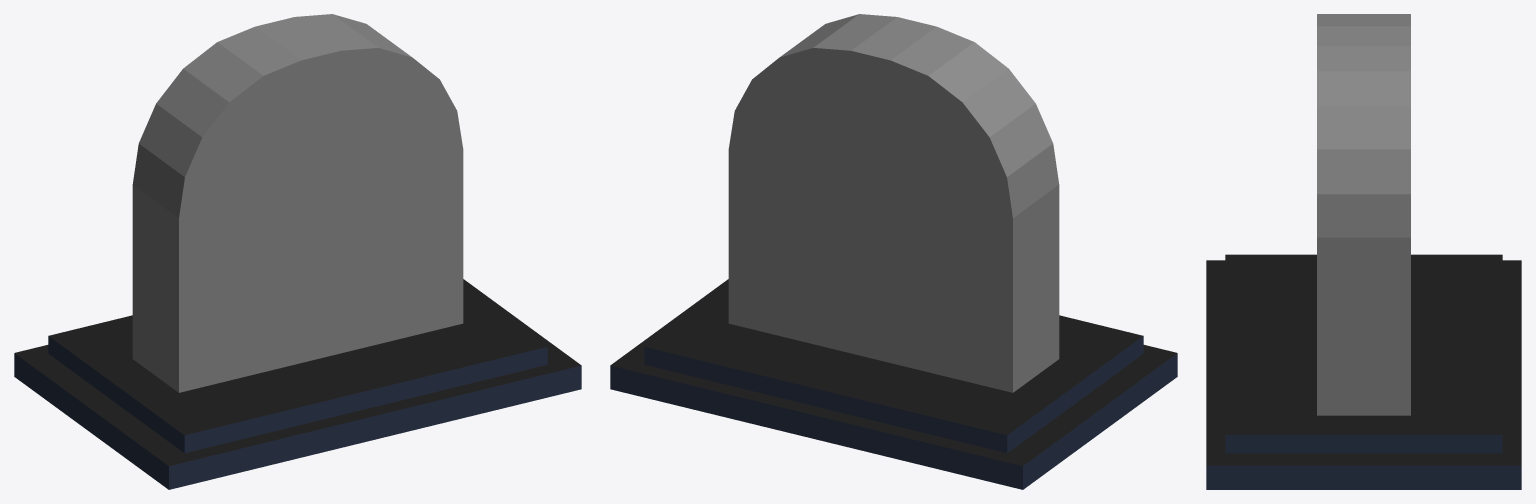
The model's file is Grave_5_MY.fbx.
3 renders of one model, left to right at view 1: azimuth 30°, elevation 25°; view 2: azimuth 150°, elevation 25°; view 3: azimuth 270°, elevation 25°, orthographic.
Visible parts, largest first — view 1: Cube.001; view 2: Cube.001; view 3: Cube.001.
Part boxes in pixels (x1,y1,x2,y2): Cube.001: (14,14,581,489); Cube.001: (610,14,1177,489); Cube.001: (1206,14,1521,489).
Bounding box in the file's own units: 100 × 79.7 × 64.92.
